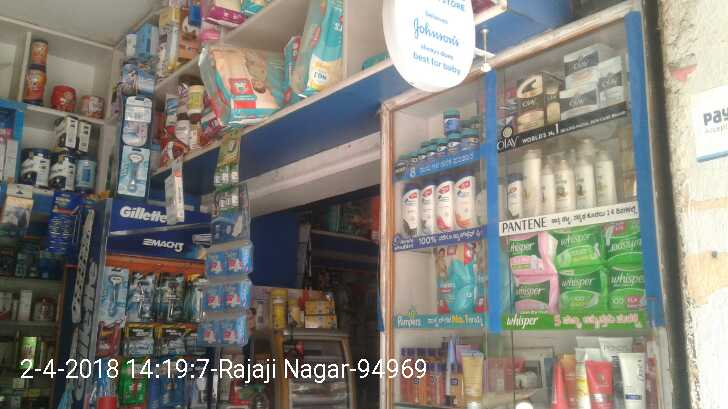vicks: (395, 104, 478, 163)
